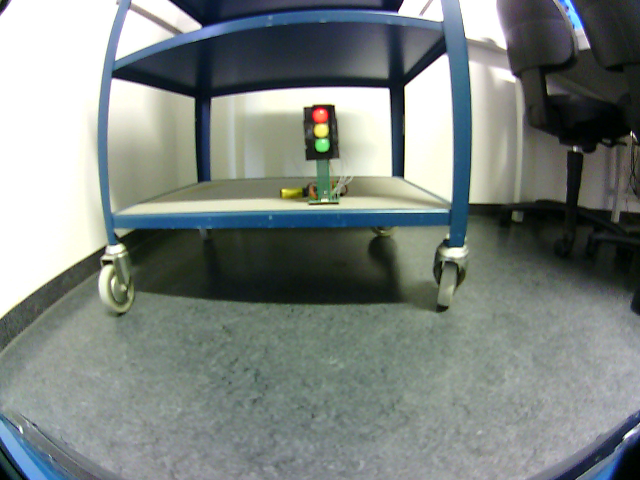red trafficlight: (306, 107, 335, 156)
